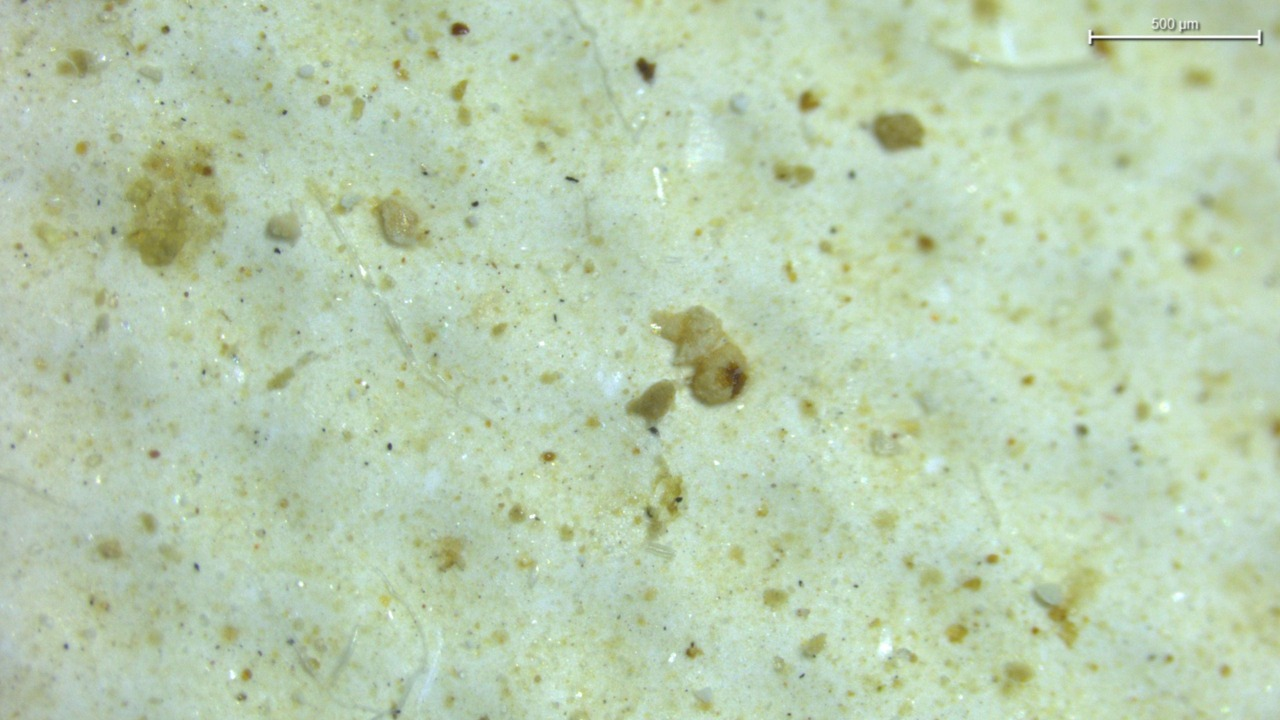microplastic_fragment: (652, 307, 746, 405), (376, 197, 420, 246), (266, 212, 300, 244)
